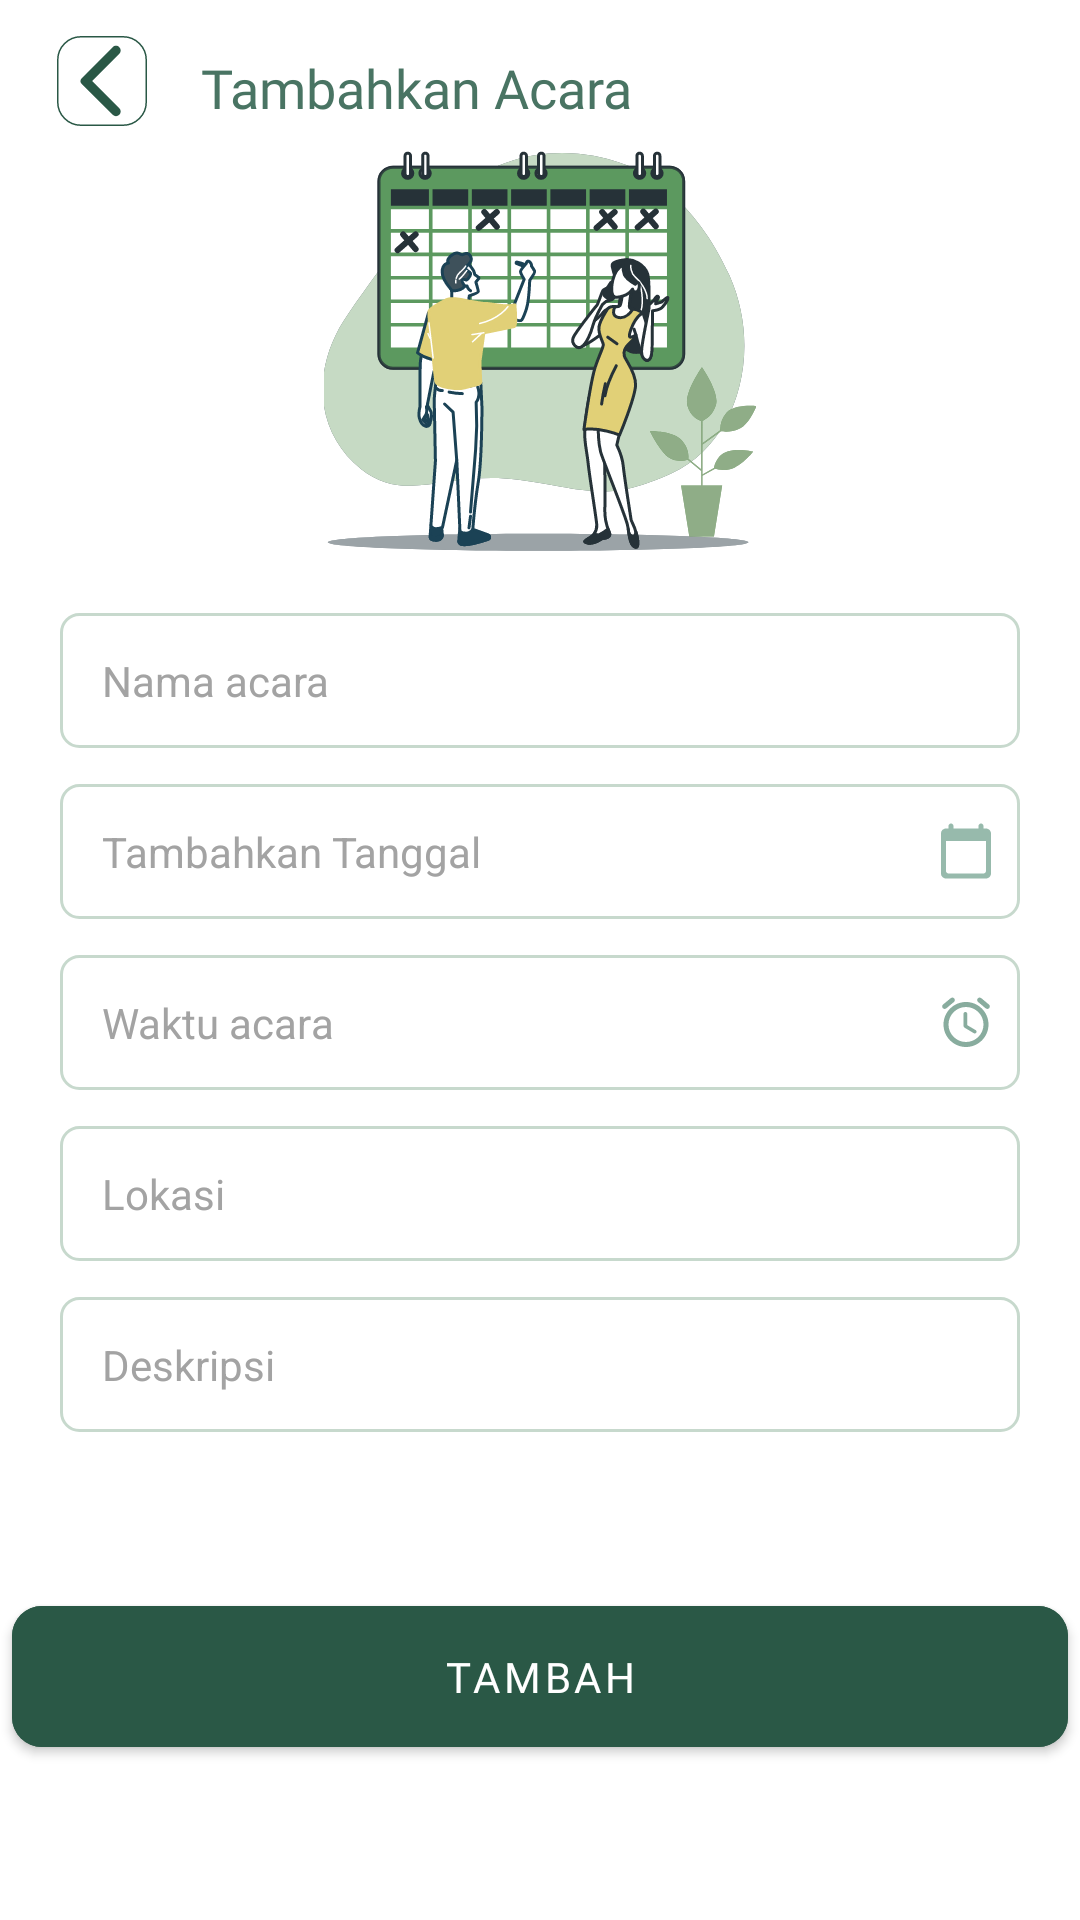

Locate icon controls on the screen. Image size 1080 × 1920, boxes as detection(x1, y1, x2, y2).
back: detection(57, 36, 147, 126)
